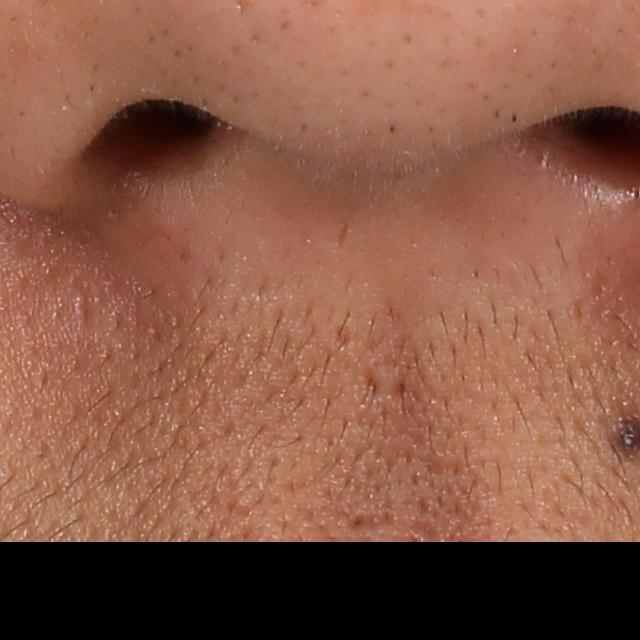atrophic_scar: (331, 213, 351, 251), (360, 367, 378, 403)
